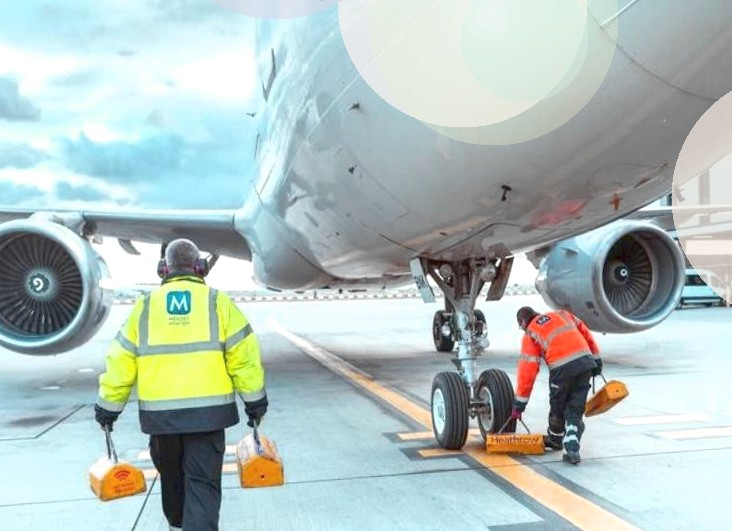chock: (82, 449, 151, 505), (235, 426, 288, 494), (578, 378, 631, 420), (485, 430, 547, 459)
wheel: (428, 369, 471, 452), (472, 367, 517, 442), (430, 309, 455, 352), (471, 308, 487, 333)
